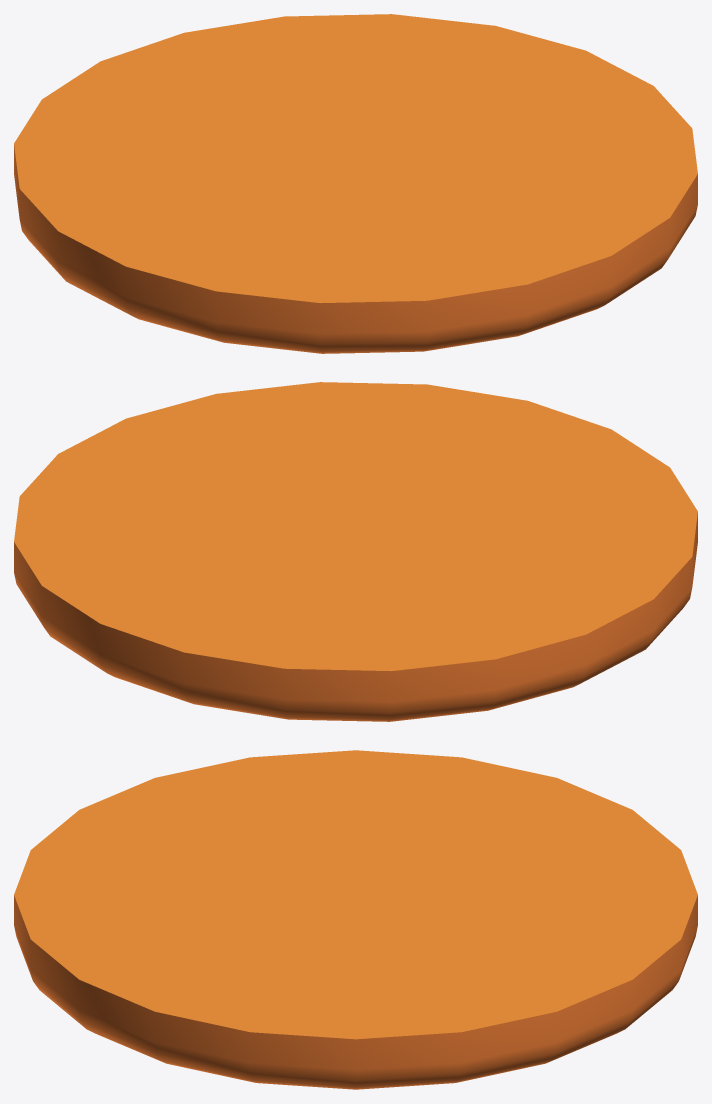
Rendered from Bun_Slice_Bot.glb.
3 renders of one model, top to bottom at view 1: azimuth 30°, elevation 25°; view 2: azimuth 150°, elevation 25°; view 3: azimuth 270°, elevation 25°, orthographic.
Visible parts, largest first — view 1: Bun_Slice_Bot; view 2: Bun_Slice_Bot; view 3: Bun_Slice_Bot.
Boxes of the visible parts, left/top/right/bottom form: Bun_Slice_Bot: left=14, top=14, right=697, bottom=353; Bun_Slice_Bot: left=14, top=382, right=697, bottom=721; Bun_Slice_Bot: left=14, top=750, right=697, bottom=1089.
Bounding box in the file's own units: 0.2035 × 0.02 × 0.2035.
Materials: 1 (1 with a texture image).
